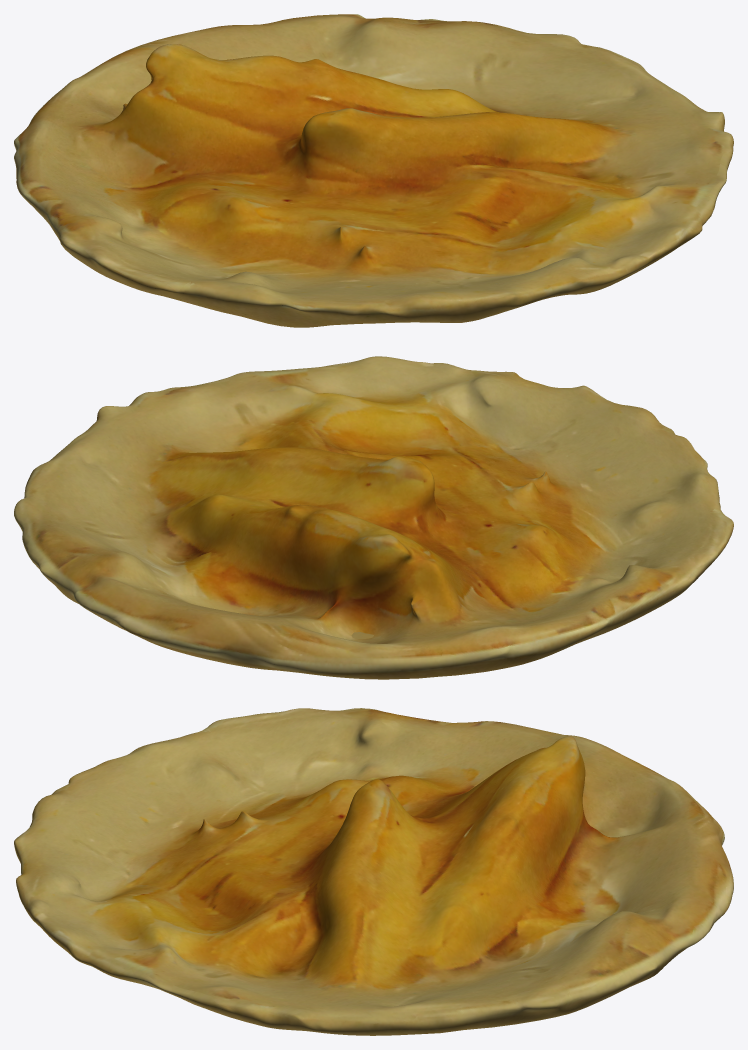
The model's file is fries_small.fbx.
3 views of the same model, one above another, from view 1: azimuth 30°, elevation 25°; view 2: azimuth 150°, elevation 25°; view 3: azimuth 270°, elevation 25° (orthographic). The views are drawn at different scales.
Parts seen in each view (by area): view 1: group_0; view 2: group_0; view 3: group_0.
Boxes of the visible parts, bbox=[...] form: group_0: bbox=[14, 14, 733, 327]; group_0: bbox=[14, 356, 733, 679]; group_0: bbox=[14, 708, 733, 1035].
Bounding box in the file's own units: 71645 × 19875 × 70399.
